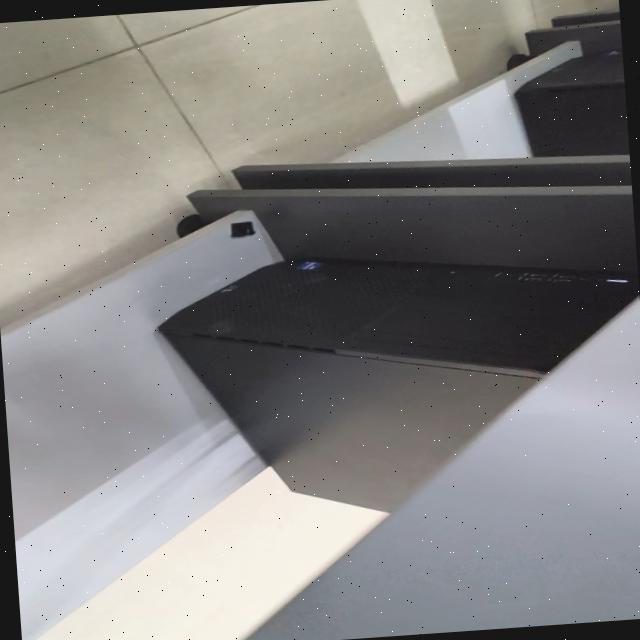Cpu: (159, 260, 639, 510), (514, 48, 629, 155)
